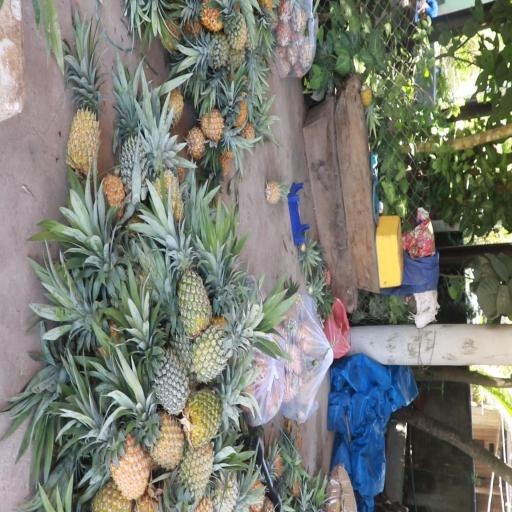------------------------------: (168, 238, 210, 329), (192, 320, 254, 380), (185, 387, 239, 441)
Pineapple - v8 v1: (90, 414, 147, 498), (65, 59, 104, 179), (136, 390, 184, 464), (146, 142, 185, 224), (173, 430, 216, 502), (197, 102, 242, 146)
